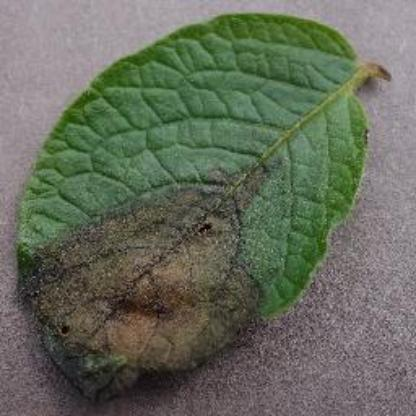Late-Blight: (16, 0, 406, 394)
